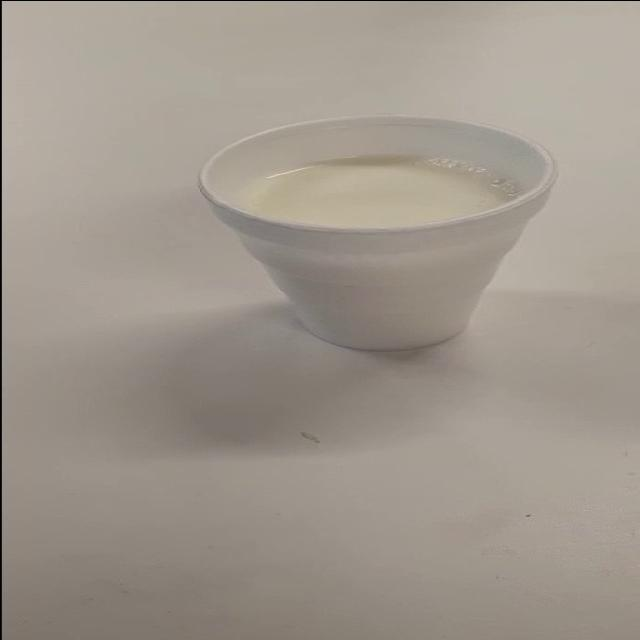Milk: (175, 93, 585, 357)
